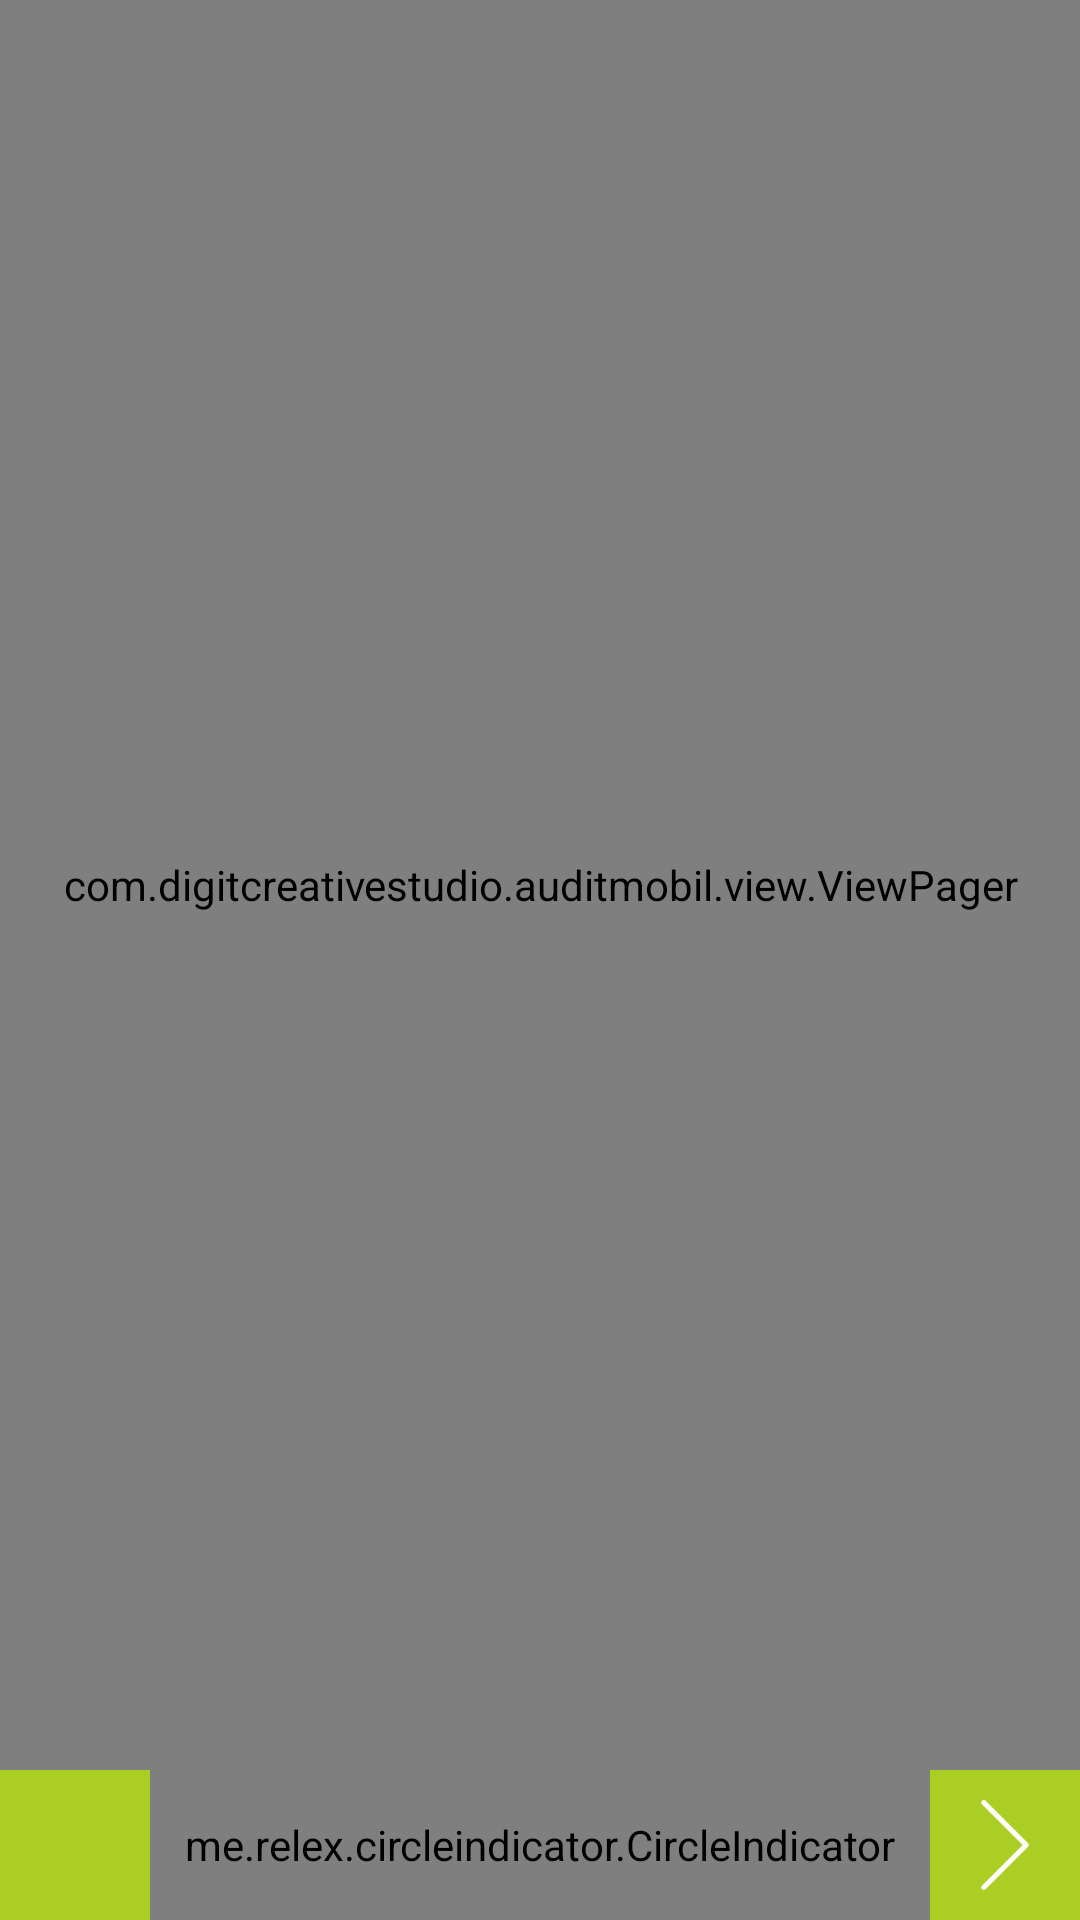

Where to tap for icons on this 1080×1920 app screen, as (x,y):
next: (1005,1845)
